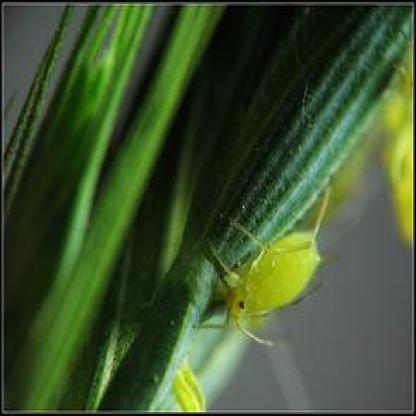aphid: (205, 208, 337, 343)
